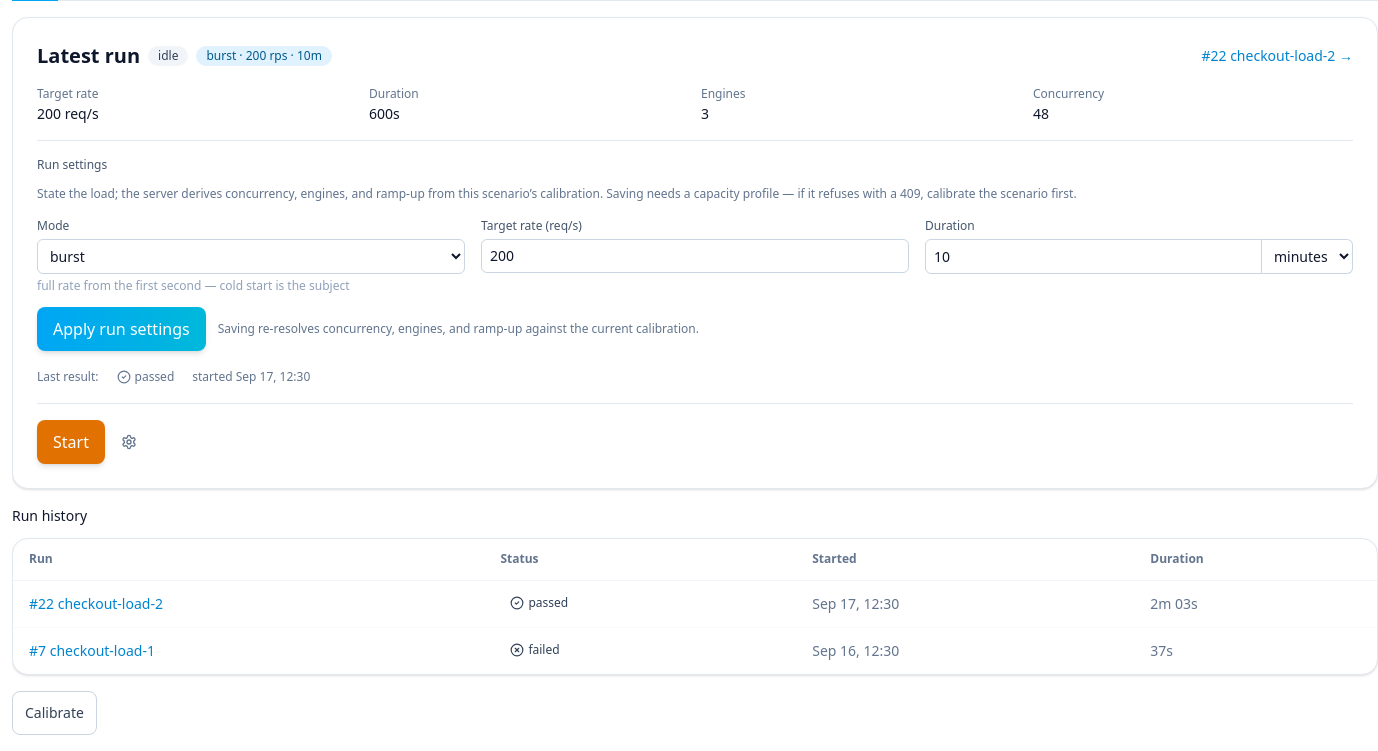
Test case: Scenario detail (phase 67b) › surfaces a calibrate failure instead of a pending state
The image size is (1378, 751).
(page scrolled)
Click the button with test id "calibrate-button" at (54, 713), box [12,691,97,735]
(page scrolled)
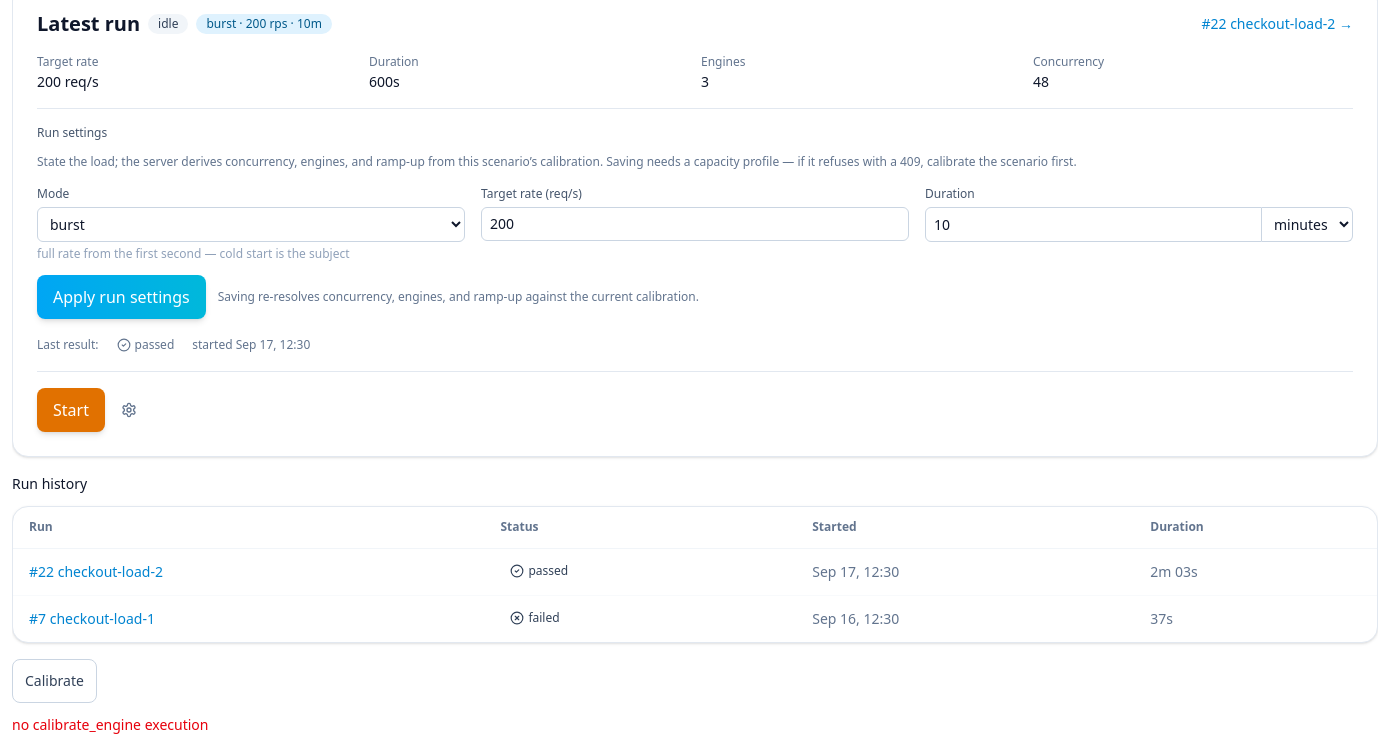
Check: the message "no calibrate_engine execution" is shown, box [12,715,208,734]
